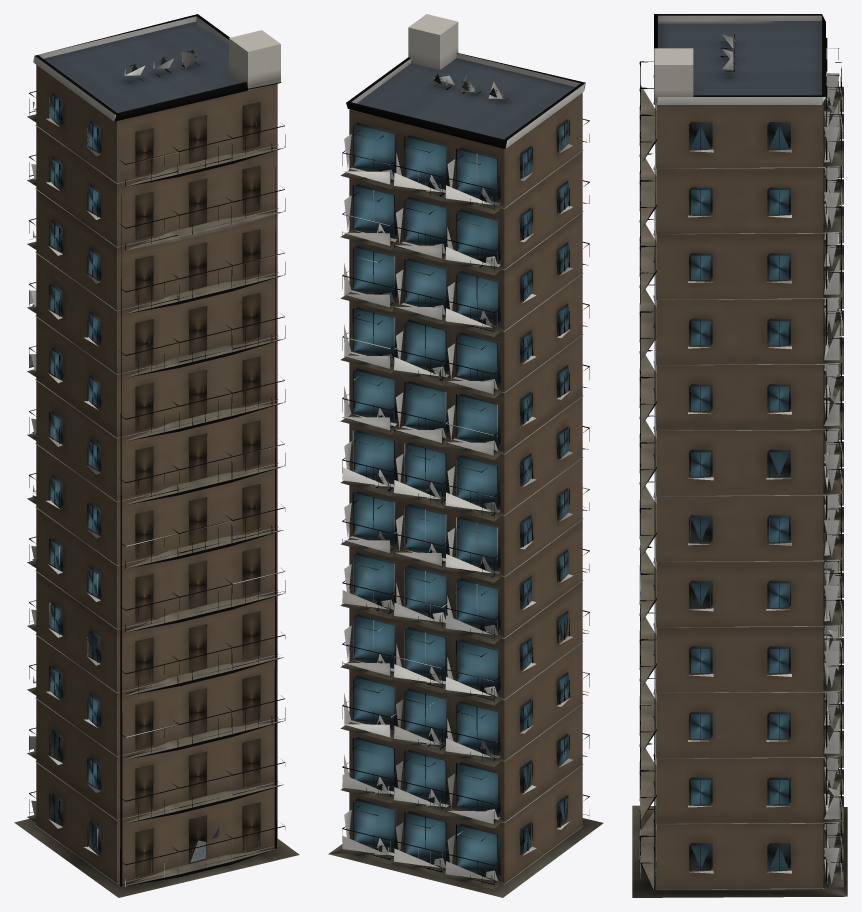
The model's file is residential_018.obj.
The picture shows the model from 3 angles, left to right: view 1: azimuth 30°, elevation 25°; view 2: azimuth 150°, elevation 25°; view 3: azimuth 270°, elevation 25°; orthographic projection. The views are drawn at different scales.
Visible parts, largest first — view 1: residential_018; view 2: residential_018; view 3: residential_018.
Part boxes in pixels (x1,y1,x2,y2): residential_018: (14,14,299,897); residential_018: (328,14,603,897); residential_018: (632,14,847,897).
Size of the model in its own units: 8.8 by 37.36 by 8.8.
1 material, 1 textured.
